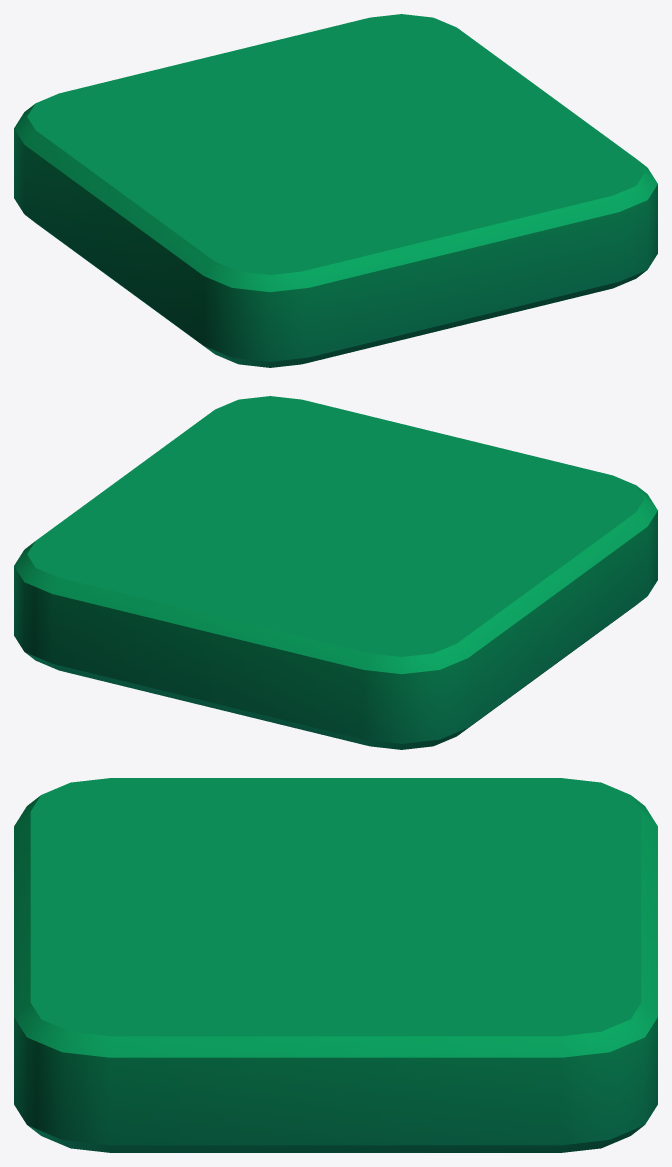
File: tile-green.glb
3 renders of one model, top to bottom at view 1: azimuth 30°, elevation 25°; view 2: azimuth 150°, elevation 25°; view 3: azimuth 270°, elevation 25°, orthographic. The views are drawn at different scales.
Parts seen in each view (by area): view 1: tile_green; view 2: tile_green; view 3: tile_green.
Part boxes in pixels (box(x1,y1,x2,y2)): tile_green: box(14, 14, 657, 367); tile_green: box(14, 396, 657, 749); tile_green: box(14, 778, 657, 1152).
Size of the model in its own units: 1 by 0.2 by 1.
1 material, 1 textured.
